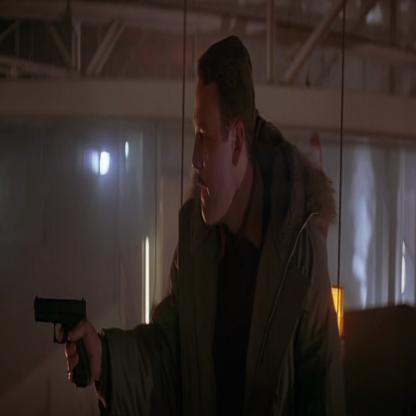gun: (27, 270, 92, 401)
